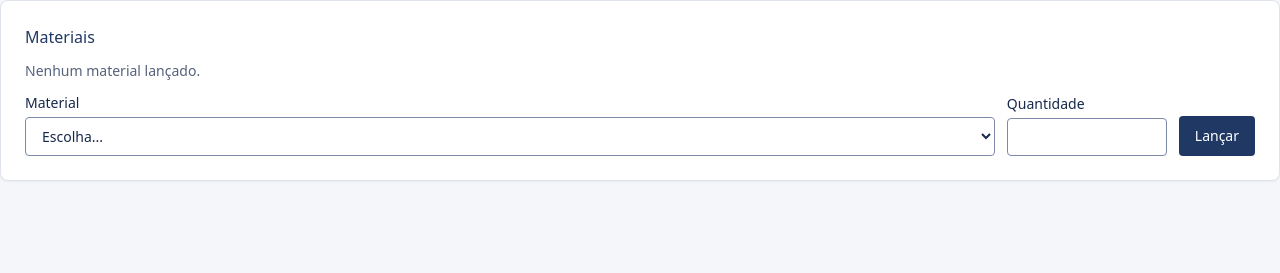
Test: Materiais do chamado (RF07) › a recusa do servidor aparece na tela
This screenshot has width=1280, height=273.
Select "Disjuntor 20 A (un)" in the dropdown labelled "Material": [510, 136] box [25,117,995,156]
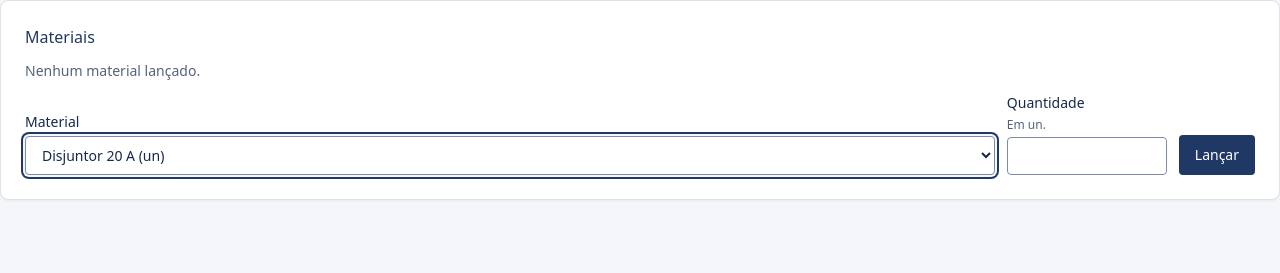
In the number field labelled "Quantidade": [1087, 156] box [1007,137,1167,175], type "1"
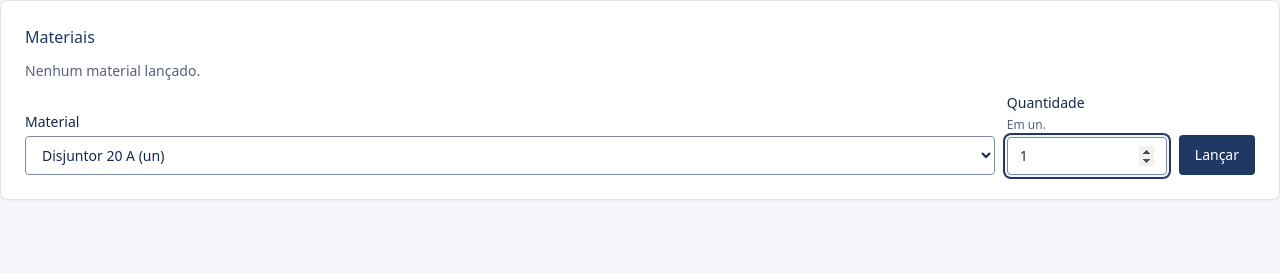
Click the button "Lançar": [1217, 155] box [1179,135,1255,175]
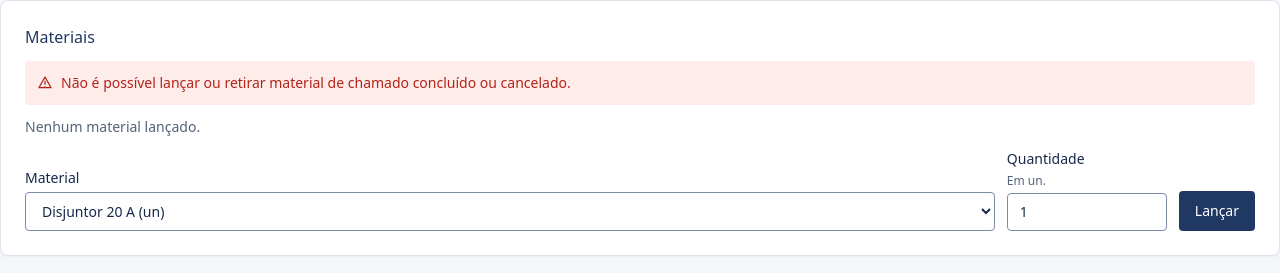
Expected: the message shows "chamado concluído ou cancelado", [61,73,571,92]
